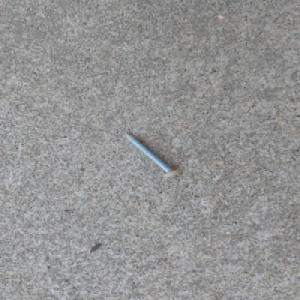Screw: (120, 130, 183, 178)
